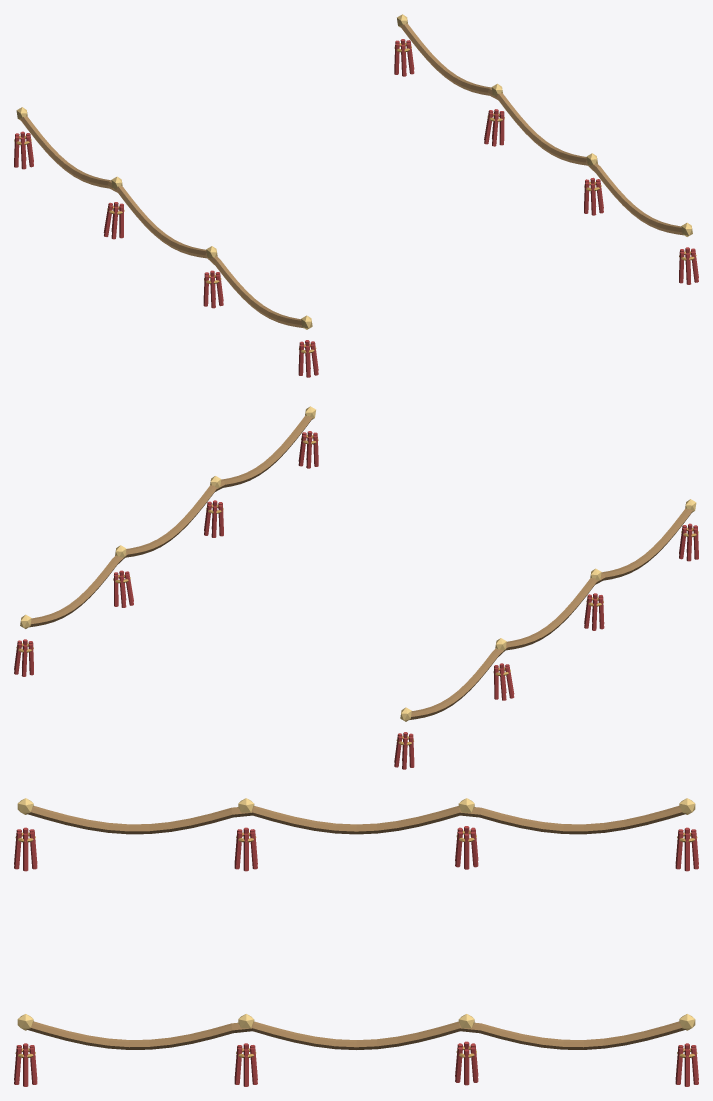
The model's file is tassels.glb.
3 views of the same model, one above another, from view 1: azimuth 30°, elevation 25°; view 2: azimuth 150°, elevation 25°; view 3: azimuth 270°, elevation 25° (orthographic). The views are drawn at different scales.
Visible parts, largest first — view 1: Braided rail cord.001, Braided rail cord; view 2: Braided rail cord.001, Braided rail cord; view 3: Braided rail cord, Braided rail cord.001.
Part boxes in pixels (<box>): Braided rail cord.001: <box>400,23,683,235</box>; Braided rail cord: <box>20,116,303,328</box>; Braided rail cord.001: <box>29,415,312,627</box>; Braided rail cord: <box>410,508,692,719</box>; Braided rail cord: <box>26,806,686,834</box>; Braided rail cord.001: <box>26,1021,686,1049</box>.
Bounding box in the file's own units: 5.17 × 0.7172 × 6.52.
